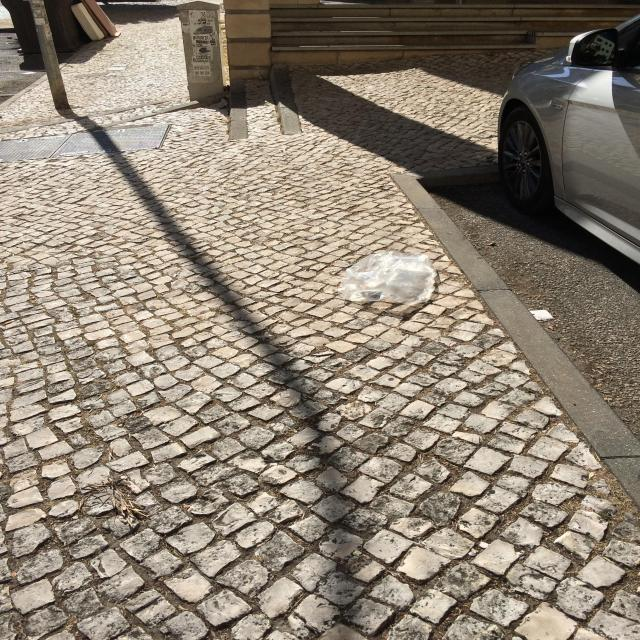Plastic film: (338, 251, 438, 305)
Unlabeled litter: (71, 1, 116, 41), (529, 310, 554, 321)
